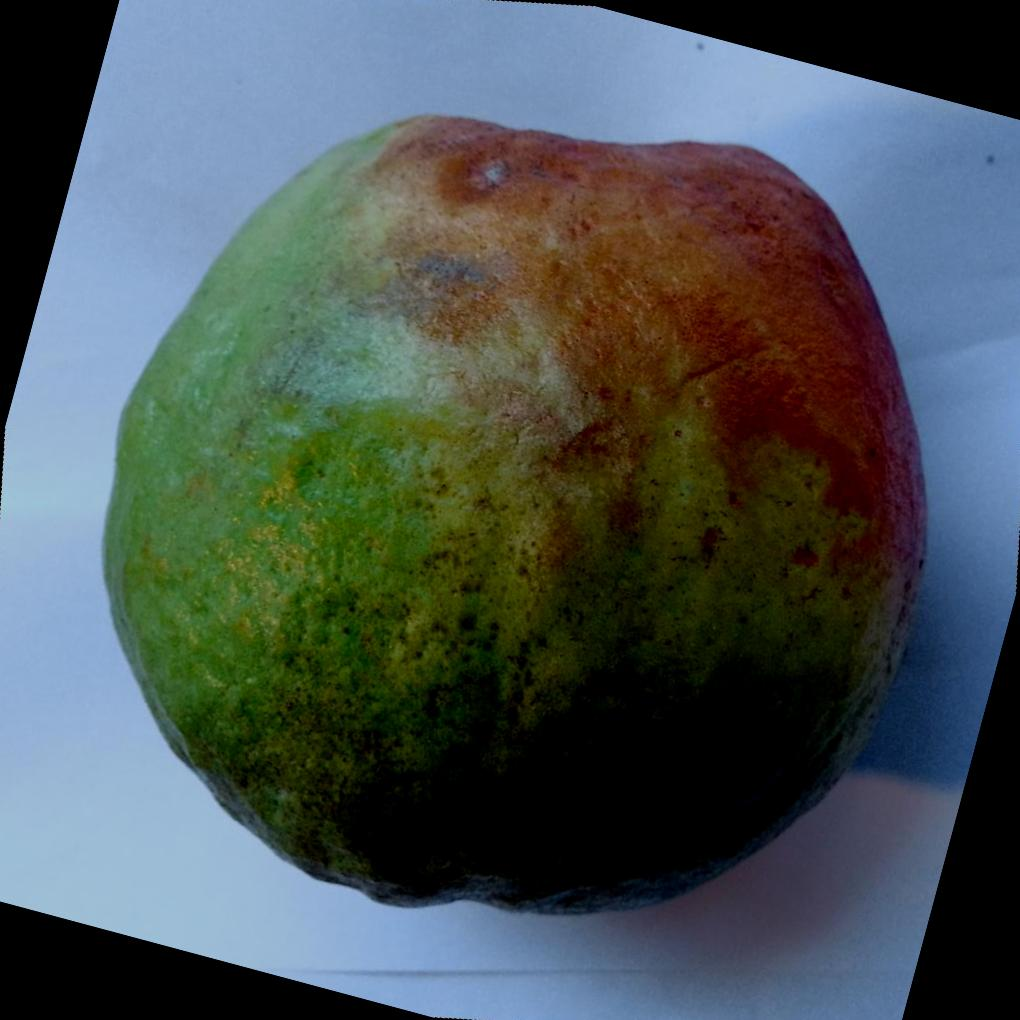FreshOrange: (103, 113, 931, 917)
